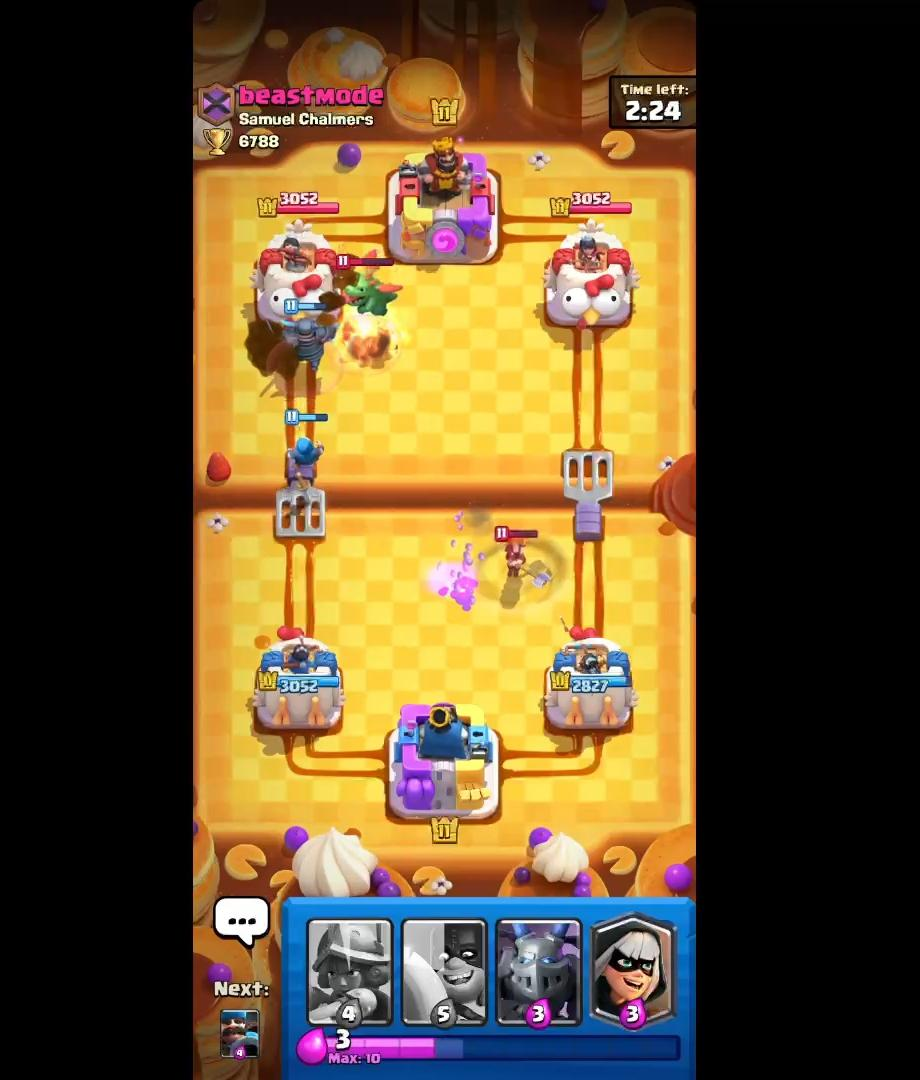Baby Dragon: (342, 275, 406, 325)
Valkyrie: (488, 519, 557, 595)
